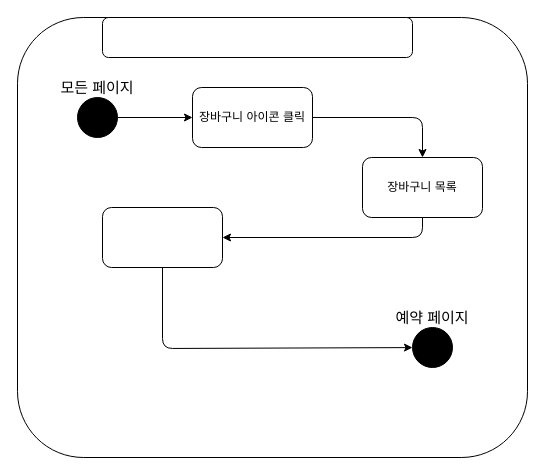
Some shapes in this 545 by 475 pixel diagram are drawn without their labels. The centre of each missing label's shape, as x and y in pixels:
"예약 아이콘 클릭" goes at point (162, 237).
"장바구니 페이지" goes at point (257, 37).
